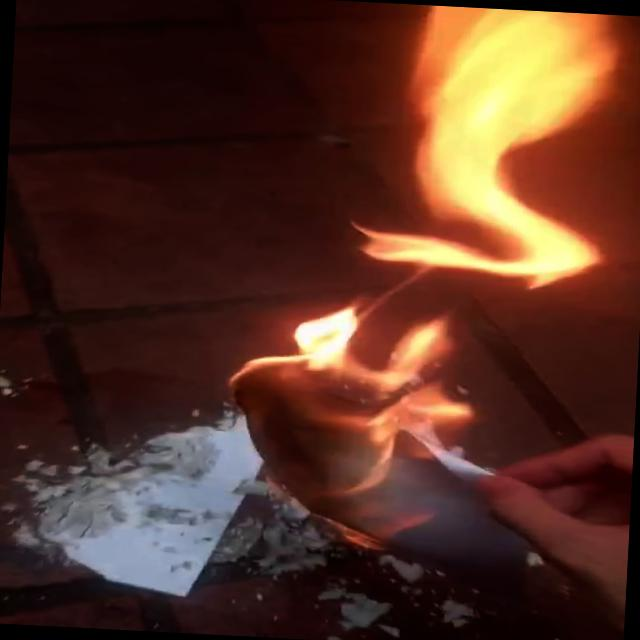Fire_Dangerous: (224, 0, 632, 564)
